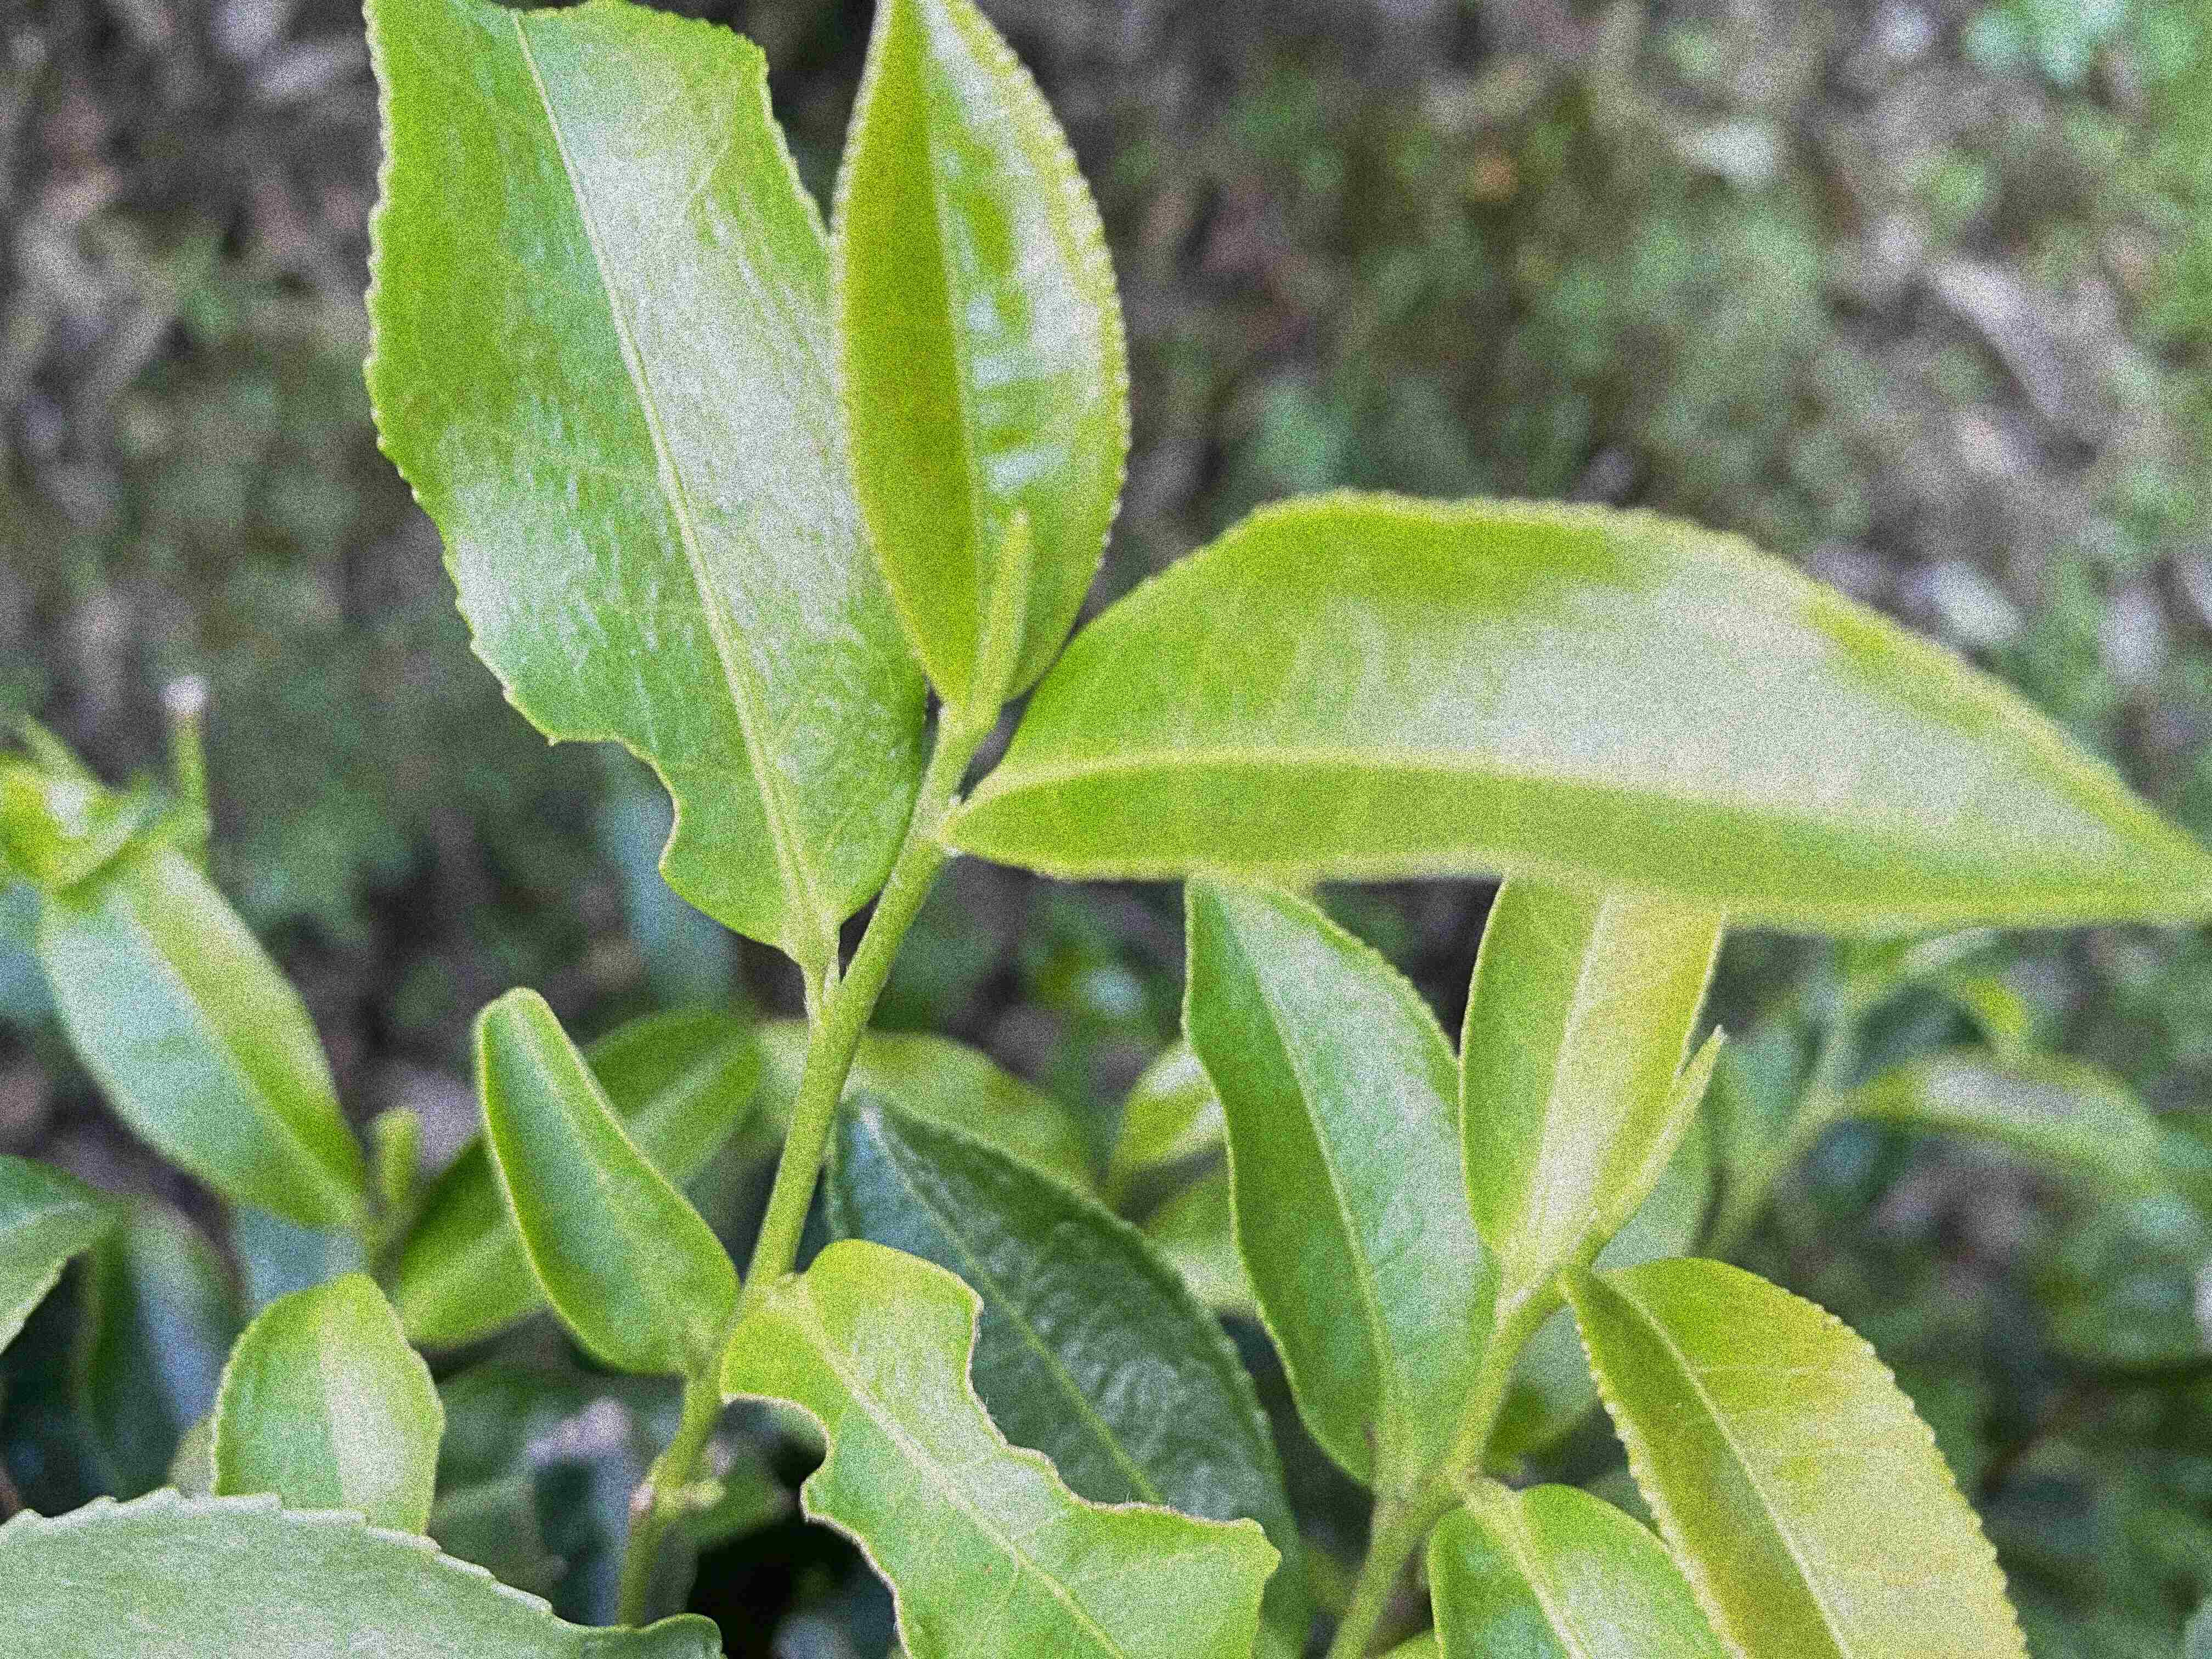chihuo_high: (716, 1234, 1284, 1657)
chihuo_low: (357, 0, 930, 948)
healthy: (951, 481, 2209, 945), (827, 3, 1130, 702), (465, 979, 738, 1380)
tanju_low: (1177, 880, 1500, 1500)
